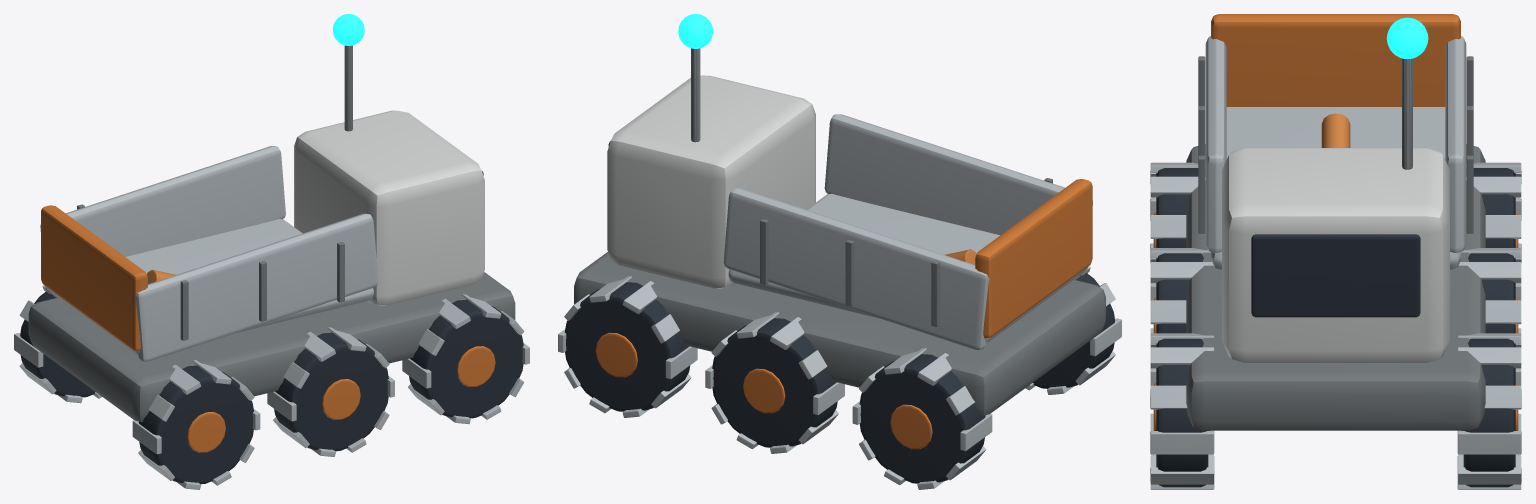
The model's file is hauler.glb.
3 views of the same model, side by side, from view 1: azimuth 30°, elevation 25°; view 2: azimuth 150°, elevation 25°; view 3: azimuth 270°, elevation 25° (orthographic). The views are drawn at different scales.
Visible parts, largest first — view 1: RenderBatch_Hauler_BedPivot_HAUL_Body, Hauler_Cab, RenderBatch_Hauler_HAUL_DarkService, RenderBatch_Hauler_HAUL_Frame, RenderBatch_Hauler_HAUL_Body, Hauler_BedBulkhead, RenderBatch_Hauler_HAUL_SafetyOrange, RenderBatch_Hauler_BedPivot_HAUL_Frame, Hauler_AntennaHead; view 2: RenderBatch_Hauler_BedPivot_HAUL_Body, Hauler_Cab, RenderBatch_Hauler_HAUL_DarkService, RenderBatch_Hauler_HAUL_Frame, RenderBatch_Hauler_HAUL_Body, Hauler_BedBulkhead, RenderBatch_Hauler_HAUL_SafetyOrange, RenderBatch_Hauler_BedPivot_HAUL_Frame, Hauler_AntennaHead; view 3: Hauler_Cab, RenderBatch_Hauler_HAUL_Frame, RenderBatch_Hauler_HAUL_DarkService, RenderBatch_Hauler_HAUL_Body, Hauler_BedBulkhead, RenderBatch_Hauler_BedPivot_HAUL_Body, RenderBatch_Hauler_BedPivot_HAUL_Frame, Hauler_AntennaHead, Hauler_TipRam.
Part boxes in pixels (x1,y1,x2,y2): RenderBatch_Hauler_BedPivot_HAUL_Body: (40,146,378,361); Hauler_Cab: (294,110,484,305); RenderBatch_Hauler_HAUL_DarkService: (20,171,523,484); RenderBatch_Hauler_HAUL_Frame: (28,45,515,421); RenderBatch_Hauler_HAUL_Body: (14,285,529,489); Hauler_BedBulkhead: (41,205,147,350); RenderBatch_Hauler_HAUL_SafetyOrange: (187,346,495,452); RenderBatch_Hauler_BedPivot_HAUL_Frame: (77,204,344,340); Hauler_AntennaHead: (332,14,364,45); RenderBatch_Hauler_BedPivot_HAUL_Body: (723,114,1092,349); Hauler_Cab: (607,75,815,288); RenderBatch_Hauler_HAUL_DarkService: (564,141,1115,483); RenderBatch_Hauler_HAUL_Frame: (574,48,1105,415); RenderBatch_Hauler_HAUL_Body: (558,266,1121,489); Hauler_BedBulkhead: (975,179,1092,338); RenderBatch_Hauler_HAUL_SafetyOrange: (595,332,932,449); RenderBatch_Hauler_BedPivot_HAUL_Frame: (760,178,1052,326); Hauler_AntennaHead: (678,14,713,48); Hauler_Cab: (1222,148,1449,362); RenderBatch_Hauler_HAUL_Frame: (1186,58,1485,430); RenderBatch_Hauler_HAUL_DarkService: (1156,168,1515,487); RenderBatch_Hauler_HAUL_Body: (1150,162,1521,489); Hauler_BedBulkhead: (1211,14,1460,106); RenderBatch_Hauler_BedPivot_HAUL_Body: (1205,36,1466,269); RenderBatch_Hauler_BedPivot_HAUL_Frame: (1198,56,1473,233); Hauler_AntennaHead: (1386,17,1428,59); Hauler_TipRam: (1321,113,1350,147).
Bounding box in the file's own units: 4.4 × 3.75 × 2.85.
